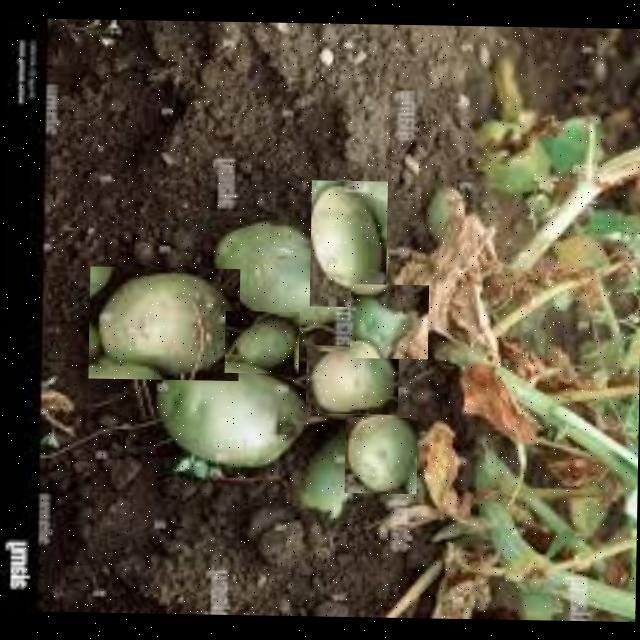Defected potato: (152, 360, 309, 476), (212, 213, 362, 330), (87, 266, 239, 381), (308, 180, 386, 307), (304, 344, 398, 414), (348, 284, 428, 358), (343, 416, 416, 494), (294, 440, 358, 528), (223, 311, 298, 374)
